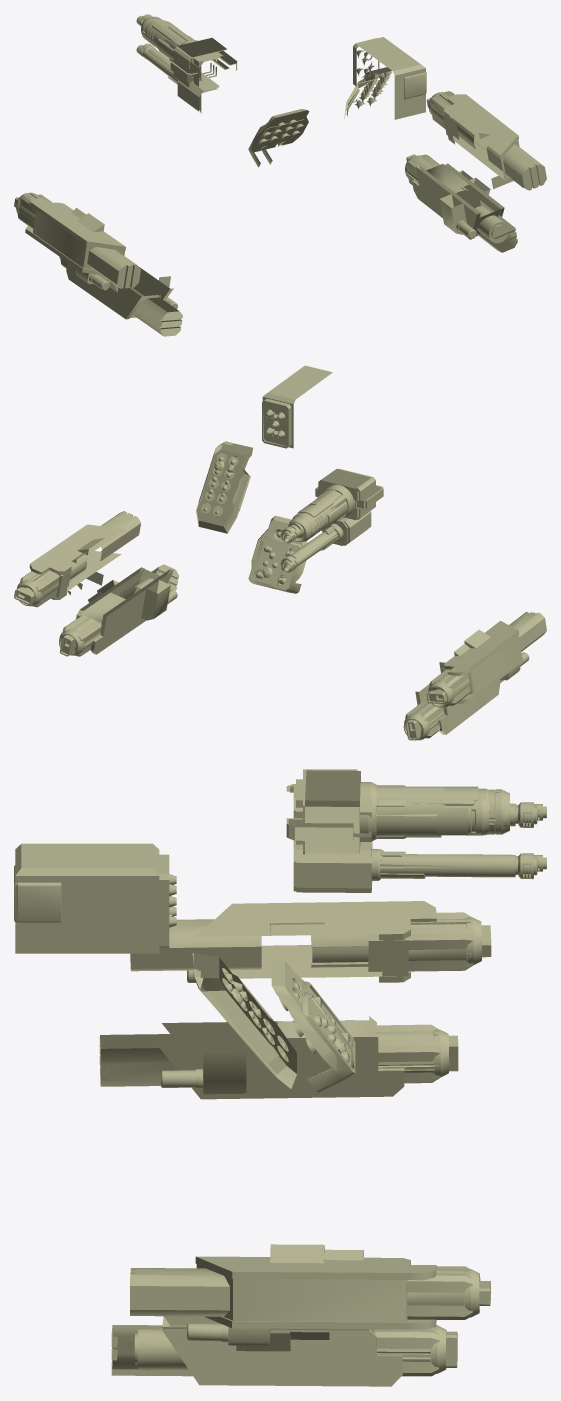
Rendered from ShadowhawkWeapons.glb.
3 views of the same model, one above another, from view 1: azimuth 30°, elevation 25°; view 2: azimuth 150°, elevation 25°; view 3: azimuth 270°, elevation 25° (orthographic). The views are drawn at different scales.
Parts seen in each view (by area): view 1: Forearm_Left_EH1_Laser, Forearm_Right_EH2_PPC, Forearm_Right_EH1_Flamer, Head_MH1_Missile2, Arm_Right_EH1_Laser, Forearm_Left_EH2_Flamer, Forearm_Right_EH2_Laser, Forearm_Left_EH2_Laser, Torso_Left_BH1_AC20, Torso_Center_MH1_Missile10, Torso_Left_BH1_AC10, Torso_Left_BH2_AC2 (+6 smaller); view 2: Forearm_Left_EH1_Laser, Forearm_Right_EH1_Flamer, Forearm_Right_EH2_PPC, Torso_Right_MH1_Missile10, Head_MH1_Missile2, Arm_Right_EH1_Laser, Forearm_Right_EH2_Laser, Torso_Left_BH1_AC20, Forearm_Left_EH2_Flamer, Forearm_Right_EH2_Flamer, Torso_Left_BH1_AC10, Torso_Left_BH2_AC2 (+13 smaller); view 3: Head_MH1_Missile2, Forearm_Left_EH1_Laser, Forearm_Right_EH1_PPC, Forearm_Left_EH2_PPC, Forearm_Right_EH2_Flamer, Torso_Left_BH1_AC10, Torso_Left_BH2_AC5, Arm_Right_EH1_Laser, Forearm_Left_EH2_Laser, Forearm_Right_EH1_Flamer, Head_MH1_Missile5, Forearm_Right_EH2_Laser (+12 smaller).
Boxes of the visible parts, x1,y1,x2,y2 form: Forearm_Left_EH1_Laser: (17,194,140,290); Forearm_Right_EH2_PPC: (405,155,509,243); Forearm_Right_EH1_Flamer: (426,94,518,189); Head_MH1_Missile2: (353,38,426,119); Arm_Right_EH1_Laser: (429,91,546,190); Forearm_Left_EH2_Flamer: (66,262,177,319); Forearm_Right_EH2_Laser: (406,154,517,252); Forearm_Left_EH2_Laser: (60,258,182,336); Torso_Left_BH1_AC20: (145,19,236,87); Torso_Center_MH1_Missile10: (251,109,309,152); Torso_Left_BH1_AC10: (166,21,237,86); Torso_Left_BH2_AC2: (136,45,218,113); Forearm_Left_EH1_Laser: (429,612,546,705); Forearm_Right_EH1_Flamer: (14,524,125,604); Forearm_Right_EH2_PPC: (59,569,177,655); Torso_Right_MH1_Missile10: (196,441,252,533); Head_MH1_Missile2: (262,365,332,448); Arm_Right_EH1_Laser: (19,511,140,607); Forearm_Right_EH2_Laser: (62,564,178,656); Torso_Left_BH1_AC20: (296,468,383,538); Forearm_Left_EH2_Flamer: (405,662,500,740); Forearm_Right_EH2_Flamer: (60,589,177,656); Torso_Left_BH1_AC10: (288,469,381,538); Torso_Left_BH2_AC2: (283,511,371,572); Head_MH1_Missile2: (14,843,172,953); Forearm_Left_EH1_Laser: (130,901,472,980); Forearm_Right_EH1_PPC: (187,1257,480,1345); Forearm_Left_EH2_PPC: (153,1020,449,1099); Forearm_Right_EH2_Flamer: (161,1316,457,1386); Torso_Left_BH1_AC10: (288,770,508,855); Torso_Left_BH2_AC5: (296,841,537,892); Arm_Right_EH1_Laser: (130,1248,472,1327); Forearm_Left_EH2_Laser: (99,1024,439,1094); Forearm_Right_EH1_Flamer: (187,1244,490,1344); Head_MH1_Missile5: (14,843,176,953); Forearm_Right_EH2_Laser: (111,1316,439,1376).
Bounding box in the file's own units: 1.81 × 0.9195 × 1.07.
